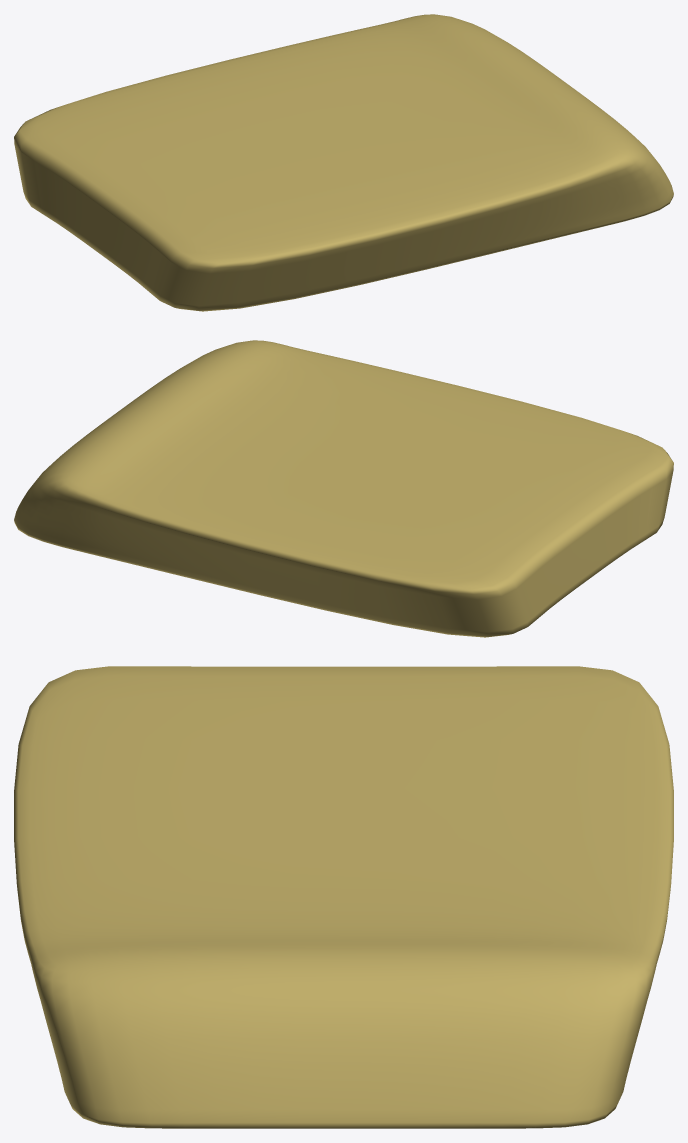
Rendered from Filler.glb.
The picture shows the model from 3 angles, top to bottom: view 1: azimuth 30°, elevation 25°; view 2: azimuth 150°, elevation 25°; view 3: azimuth 270°, elevation 25°; orthographic projection. The views are drawn at different scales.
Parts seen in each view (by area): view 1: Filler.002; view 2: Filler.002; view 3: Filler.002.
Boxes of the visible parts, bbox=[...] form: Filler.002: bbox=[14, 14, 673, 311]; Filler.002: bbox=[14, 340, 673, 637]; Filler.002: bbox=[14, 666, 673, 1128].
Bounding box in the file's own units: 0.1351 × 0.0202 × 0.0994.
